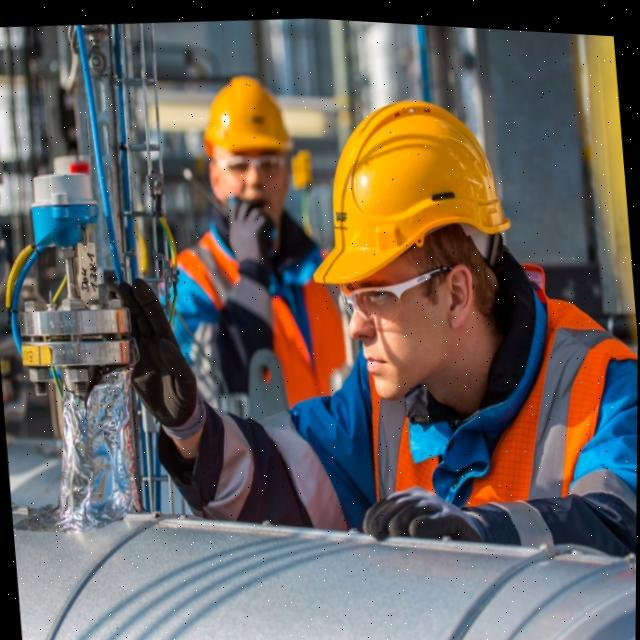illegal_helmet: (287, 69, 536, 417), (193, 56, 308, 246)
